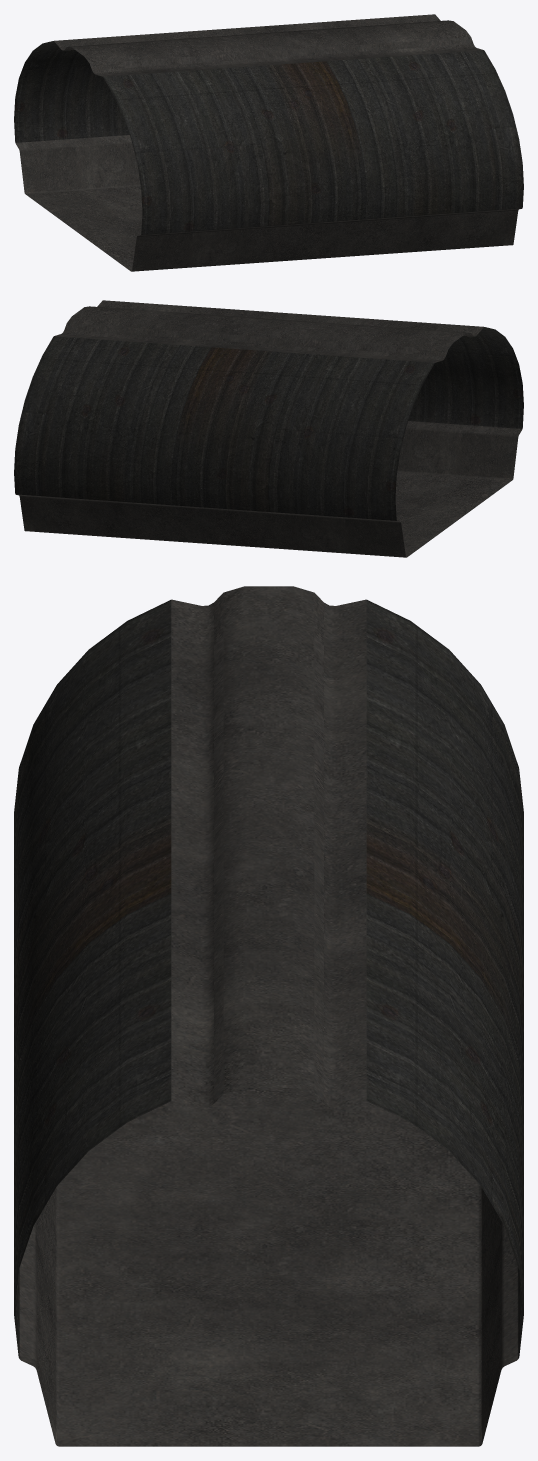
The model's file is tunnel_straight_down_1.fbx.
3 renders of one model, top to bottom at view 1: azimuth 30°, elevation 25°; view 2: azimuth 150°, elevation 25°; view 3: azimuth 270°, elevation 25°, orthographic. The views are drawn at different scales.
Parts seen in each view (by area): view 1: tunnel_straight_down_1; view 2: tunnel_straight_down_1; view 3: tunnel_straight_down_1.
Part boxes in pixels (<box>): tunnel_straight_down_1: <box>14,14,523,271</box>; tunnel_straight_down_1: <box>14,300,523,557</box>; tunnel_straight_down_1: <box>14,586,523,1446</box>.
Size of the model in its own units: 6 by 3.5 by 3.72.
